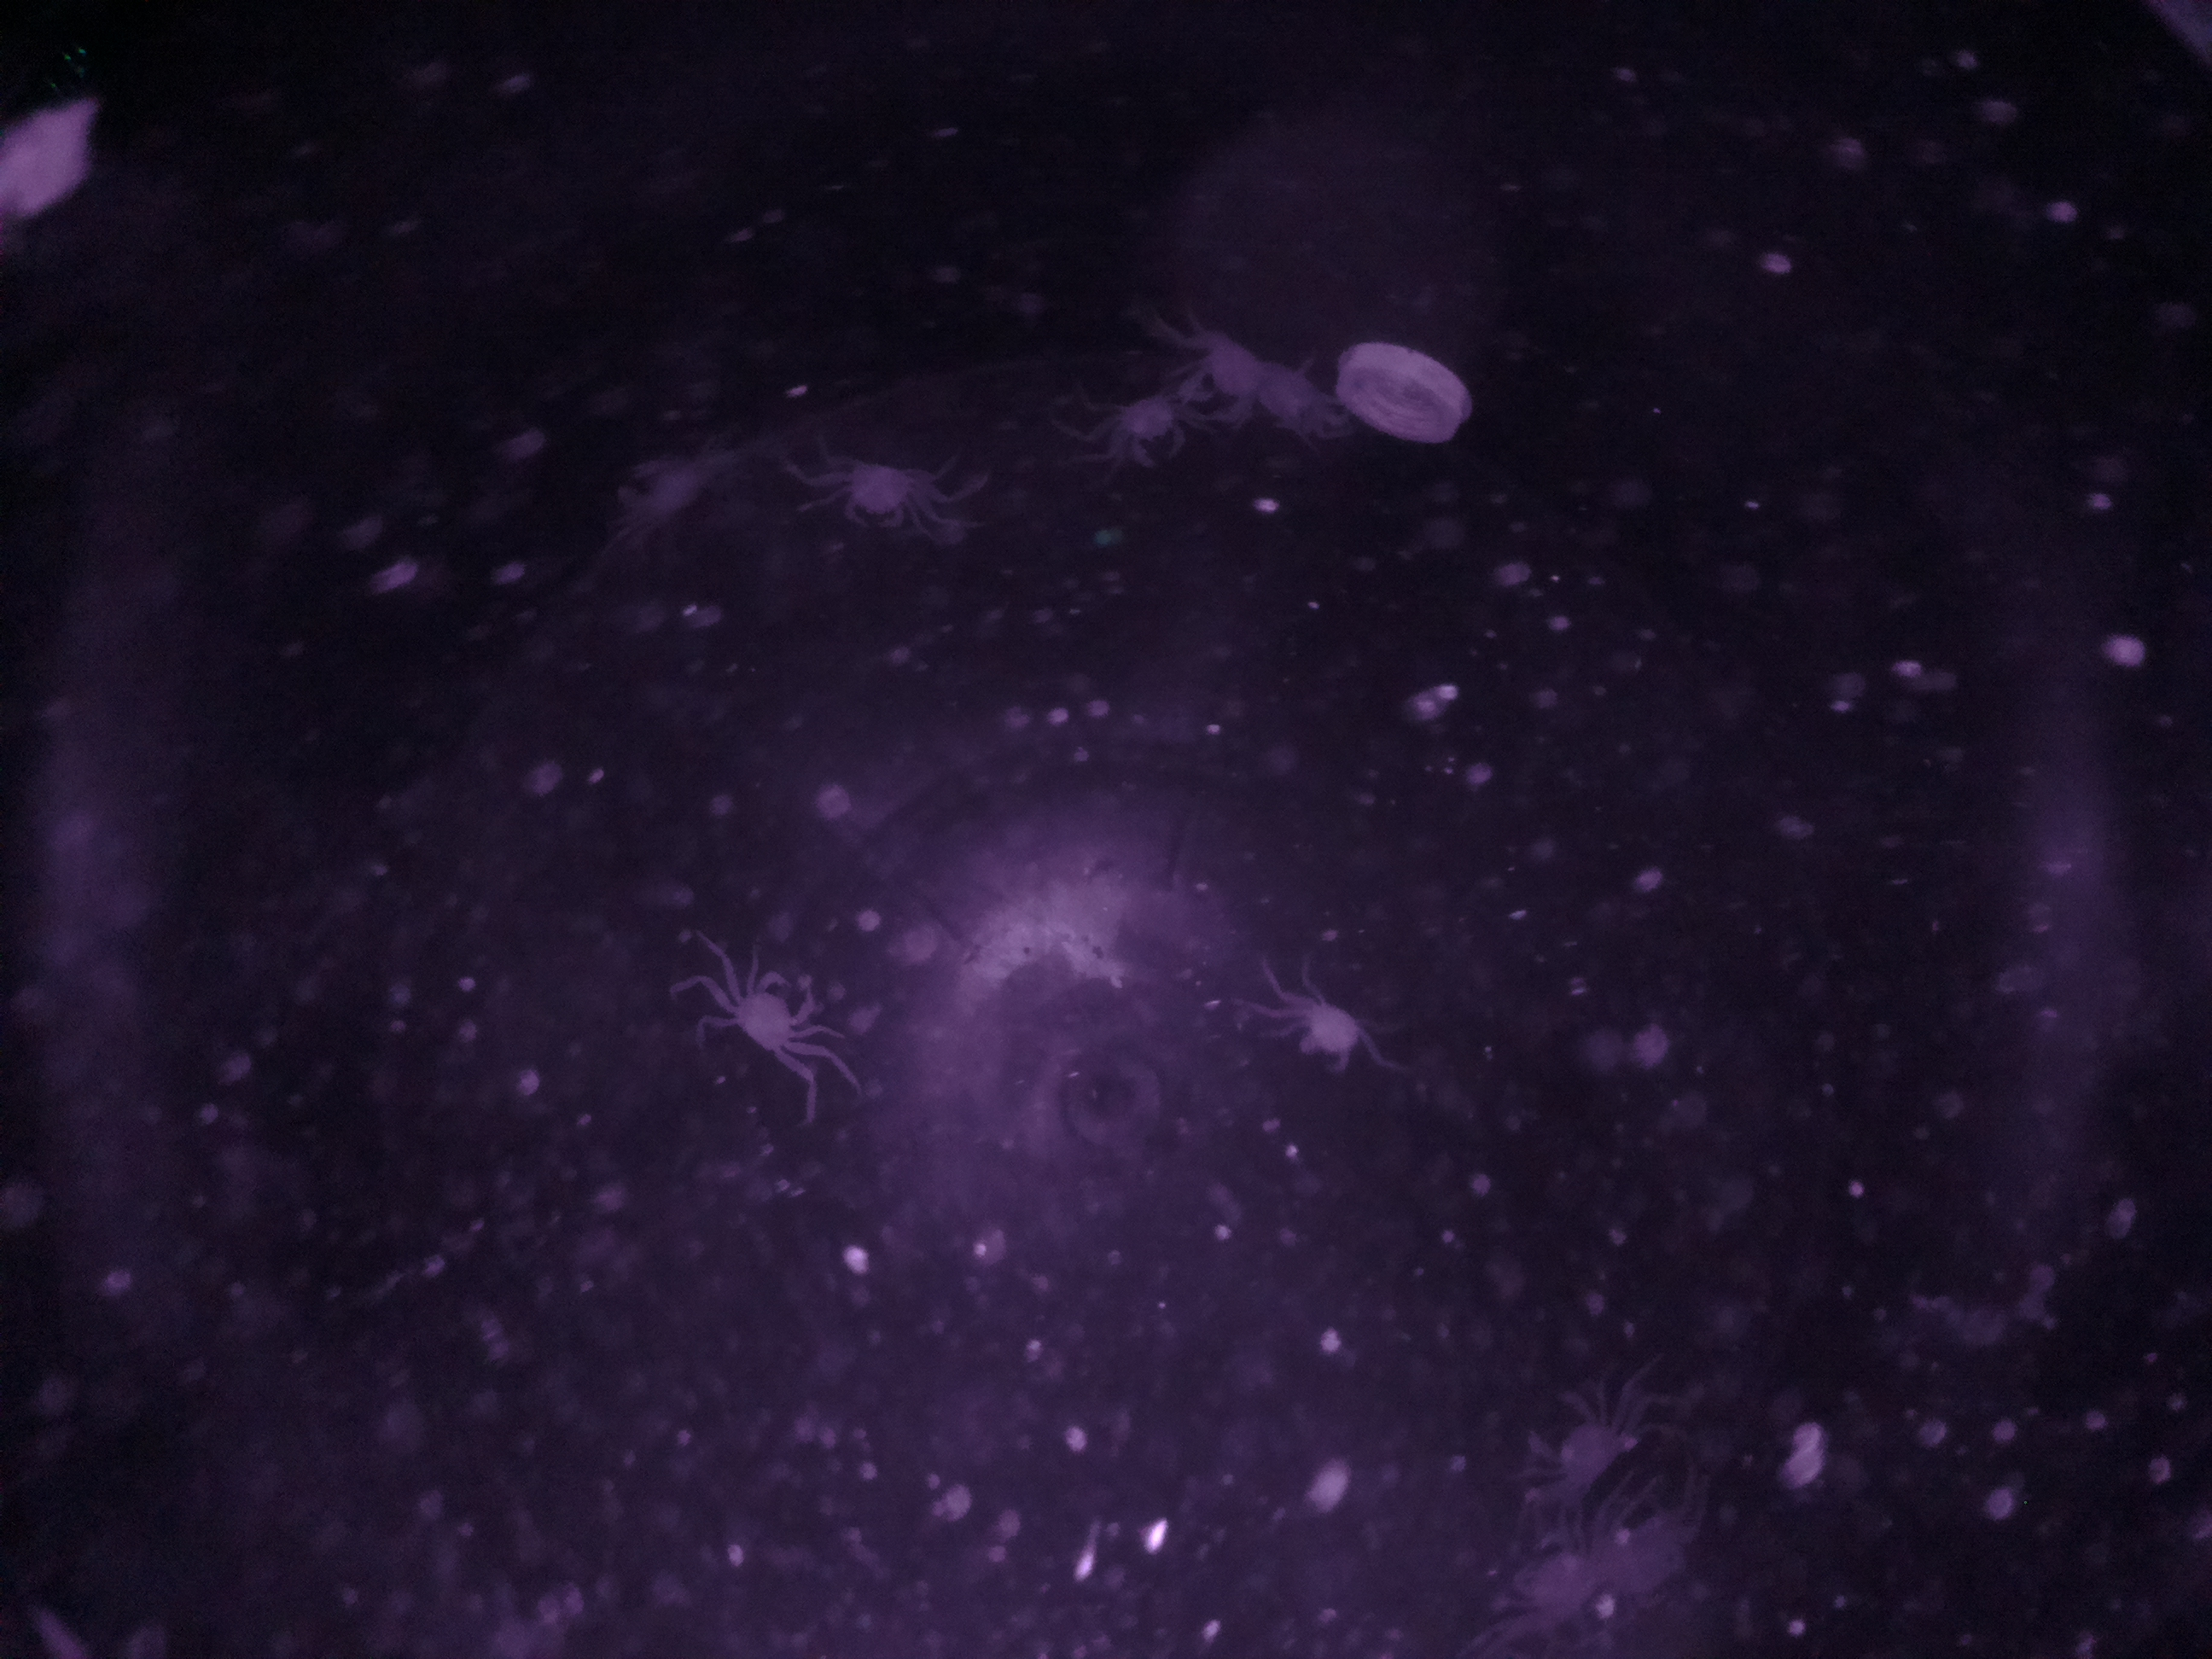Crab: (719, 957, 838, 1079), (829, 441, 937, 551), (1278, 976, 1383, 1087), (1106, 368, 1200, 486)
